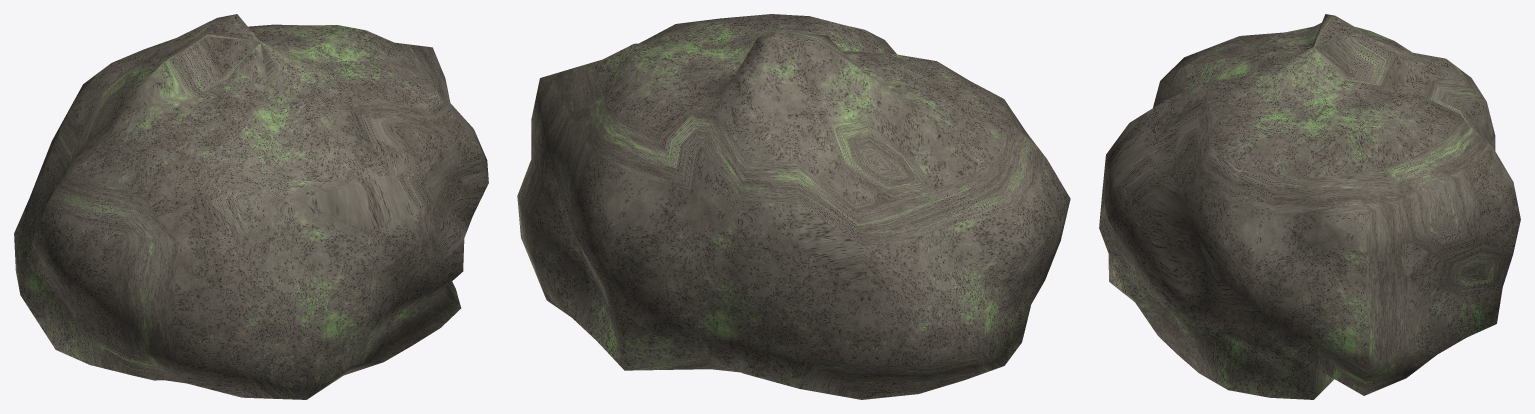
Rendered from SM_dg_rock.glb.
3 renders of one model, left to right at view 1: azimuth 30°, elevation 25°; view 2: azimuth 150°, elevation 25°; view 3: azimuth 270°, elevation 25°, orthographic. The views are drawn at different scales.
Visible parts, largest first — view 1: SM_dg_rock; view 2: SM_dg_rock; view 3: SM_dg_rock.
Part boxes in pixels (x1,y1,x2,y2): SM_dg_rock: (14, 14, 488, 399); SM_dg_rock: (517, 14, 1070, 399); SM_dg_rock: (1099, 14, 1520, 399).
Bounding box in the file's own units: 2.6 × 1.59 × 2.18.
Materials: 1 (1 with a texture image).
